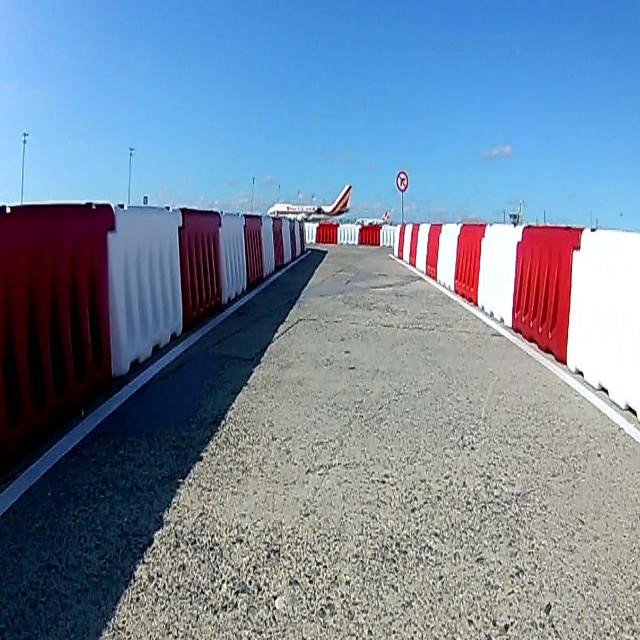sagadonulmez: (396, 172, 409, 191)
